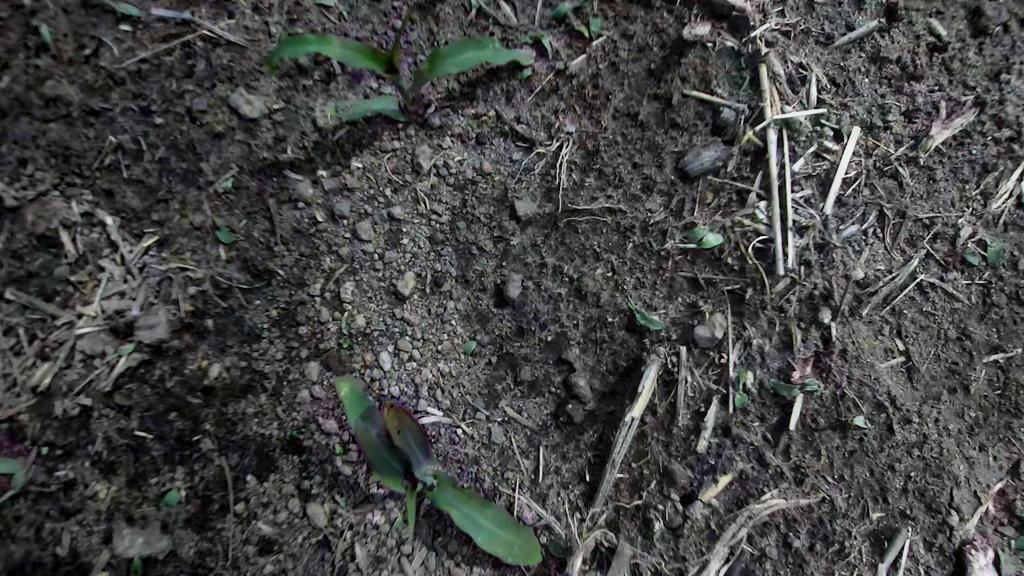BroWeed: (0, 443, 43, 508), (0, 448, 54, 494), (964, 223, 1014, 271), (618, 294, 668, 338), (27, 10, 68, 59), (516, 23, 561, 62), (765, 377, 820, 404), (681, 216, 718, 248), (957, 240, 990, 275), (211, 221, 247, 252), (100, 339, 140, 366), (563, 8, 595, 40), (540, 530, 571, 562), (159, 473, 192, 503), (155, 484, 186, 515), (731, 366, 750, 410), (548, 33, 570, 65), (199, 360, 228, 384), (589, 0, 604, 40), (787, 369, 818, 388), (212, 214, 241, 231), (458, 335, 480, 357), (473, 327, 495, 349), (547, 50, 567, 74), (808, 378, 828, 400), (839, 399, 859, 420), (514, 63, 538, 80), (392, 512, 411, 533), (129, 554, 144, 576), (219, 176, 236, 194), (851, 415, 872, 429), (197, 354, 214, 371), (742, 396, 756, 414), (1011, 534, 1024, 552), (540, 545, 554, 561), (213, 184, 227, 197), (455, 343, 466, 359), (342, 337, 355, 350), (333, 443, 344, 456), (290, 429, 302, 440), (338, 333, 348, 346)
Maize: (287, 354, 555, 576)
